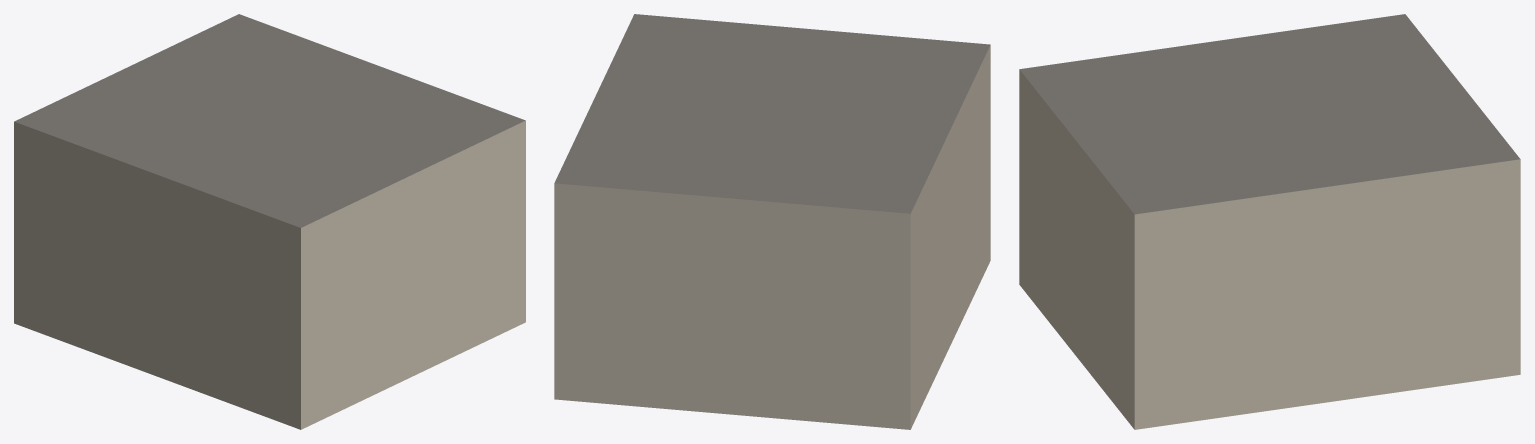
3 views of the same model, side by side, from view 1: azimuth 30°, elevation 25°; view 2: azimuth 150°, elevation 25°; view 3: azimuth 270°, elevation 25° (orthographic). The views are drawn at different scales.
Visible parts, largest first — view 1: HP-w1287260535; view 2: HP-w1287260535; view 3: HP-w1287260535.
Part boxes in pixels (x1,y1,x2,y2): HP-w1287260535: (14,14,525,429); HP-w1287260535: (554,14,990,429); HP-w1287260535: (1019,14,1520,429).
Size of the model in its own units: 35.91 by 18 by 37.94.
